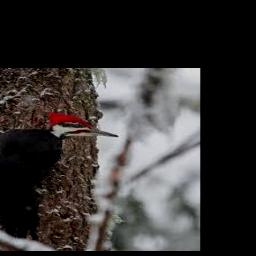Woodpecker: (0, 112, 118, 240)
